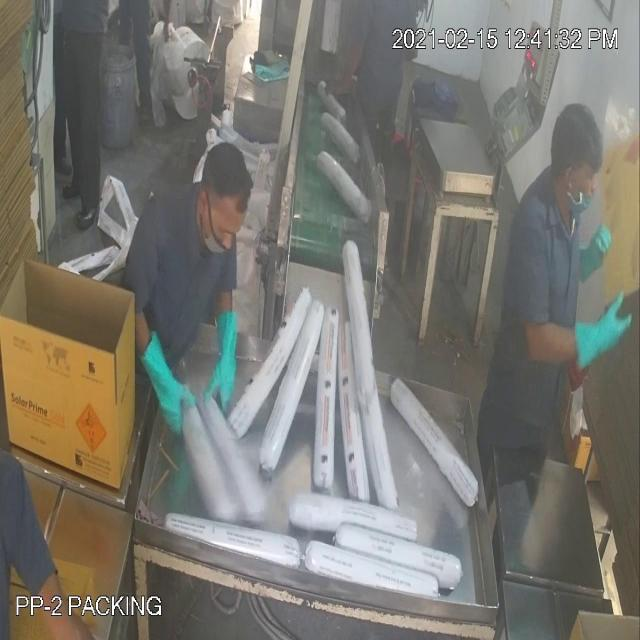gloves: (524, 299, 640, 382), (133, 320, 197, 450), (194, 303, 250, 427), (570, 221, 614, 298)
no-gloves: (323, 34, 364, 114)
